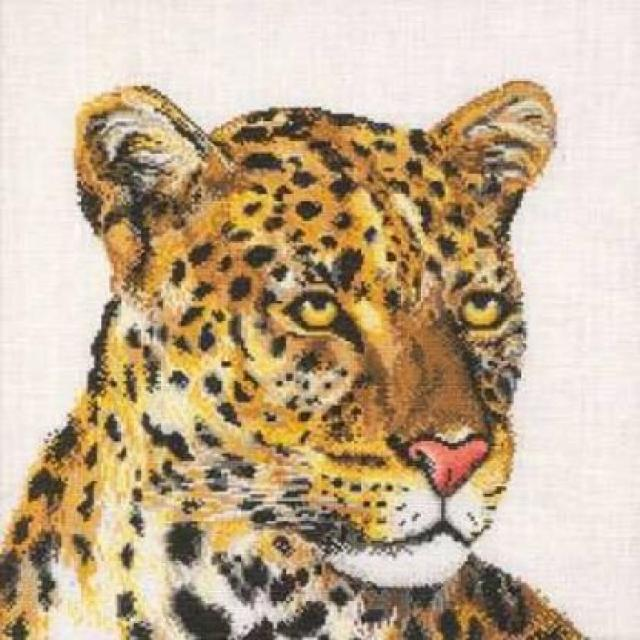Leopard: (47, 51, 639, 638)
